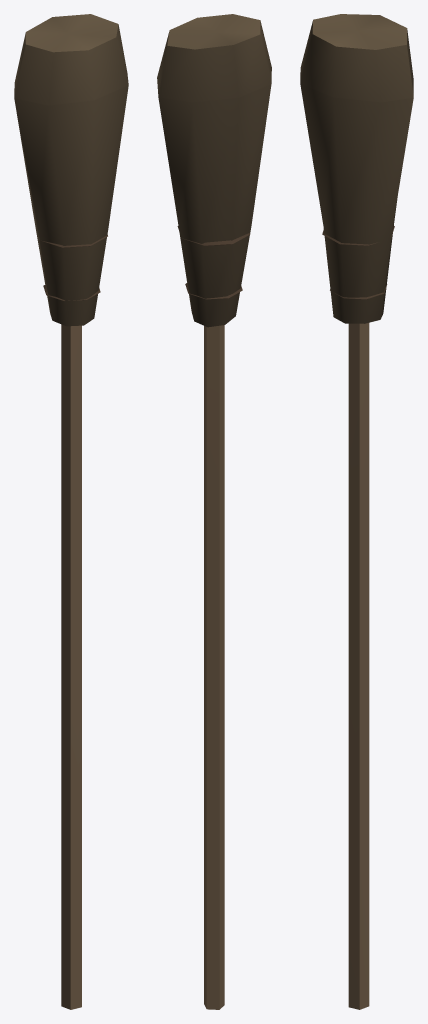
File: ph_tool_broom.glb
The picture shows the model from 3 angles, left to right: view 1: azimuth 30°, elevation 25°; view 2: azimuth 210°, elevation 25°; view 3: azimuth 330°, elevation 25°; orthographic projection.
Parts seen in each view (by area): view 1: ph_tool_broom; view 2: ph_tool_broom; view 3: ph_tool_broom.
Boxes of the visible parts, bbox=[...] form: ph_tool_broom: bbox=[14, 14, 128, 1009]; ph_tool_broom: bbox=[157, 14, 271, 1009]; ph_tool_broom: bbox=[300, 14, 413, 1009].
Size of the model in its own units: 0.1668 by 1.37 by 0.1234.
